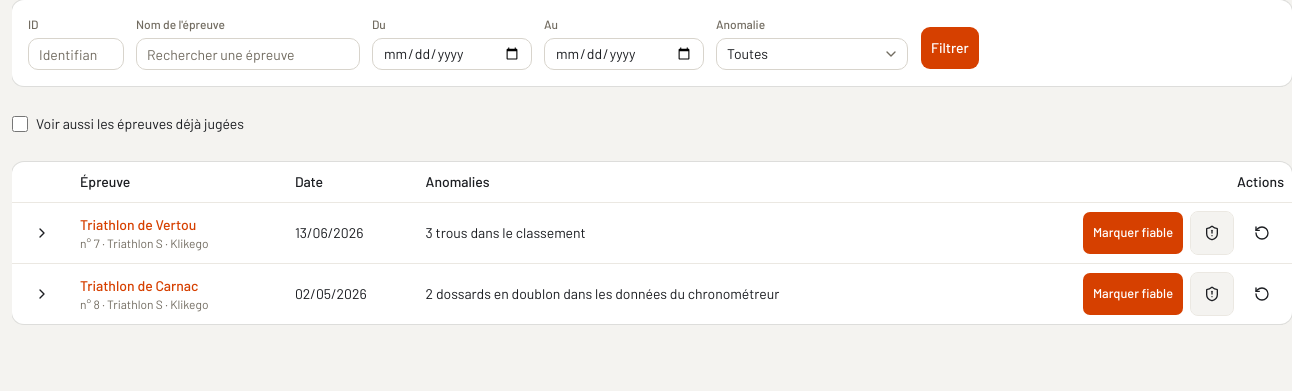
Test: QualityQueueTable › un chevron déplie les sources de l'épreuve, chargées à la demande
Check: the link "Triathlon de Vertou" is shown, box [80,216,196,232]
Click the button named "Afficher les sources — Triathlon de Vertou": (42, 232) [20,210,64,254]
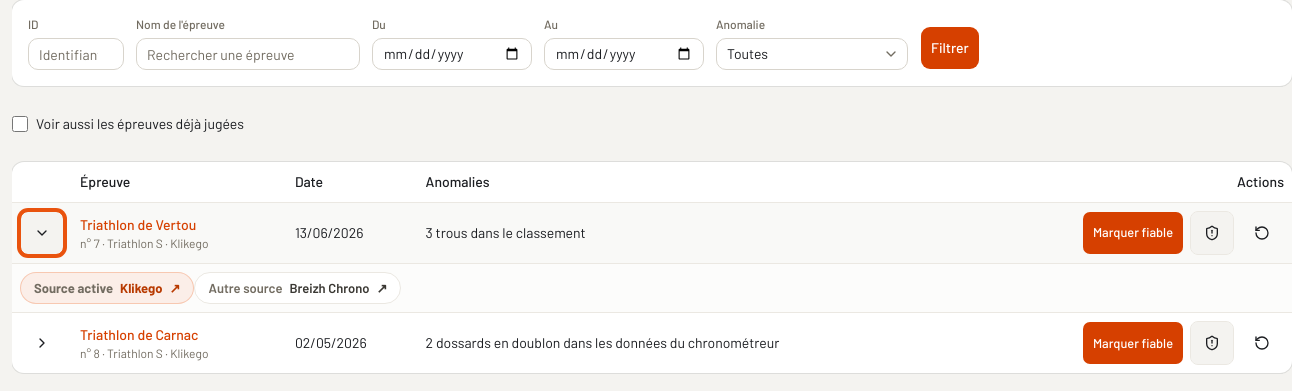
Check: the link "Autre source Breizh Chrono ↗" is shown, box [194,272,401,304]
